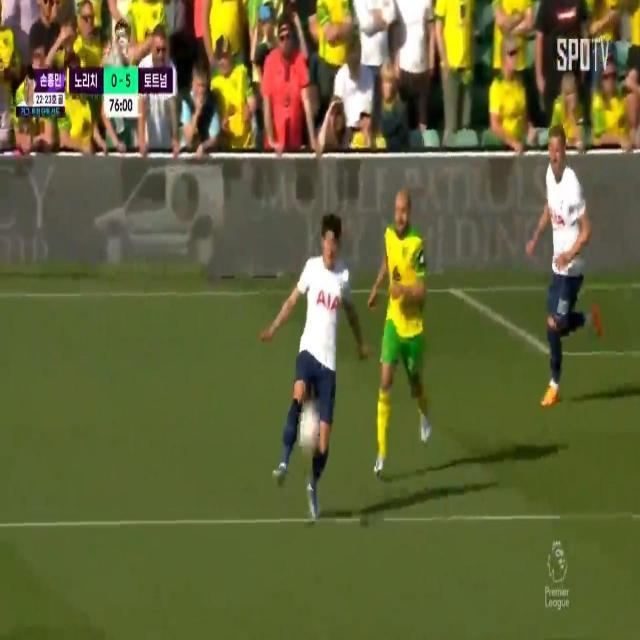ball: (293, 401, 325, 448)
player: (270, 205, 357, 513), (363, 176, 445, 478), (533, 129, 598, 403)
